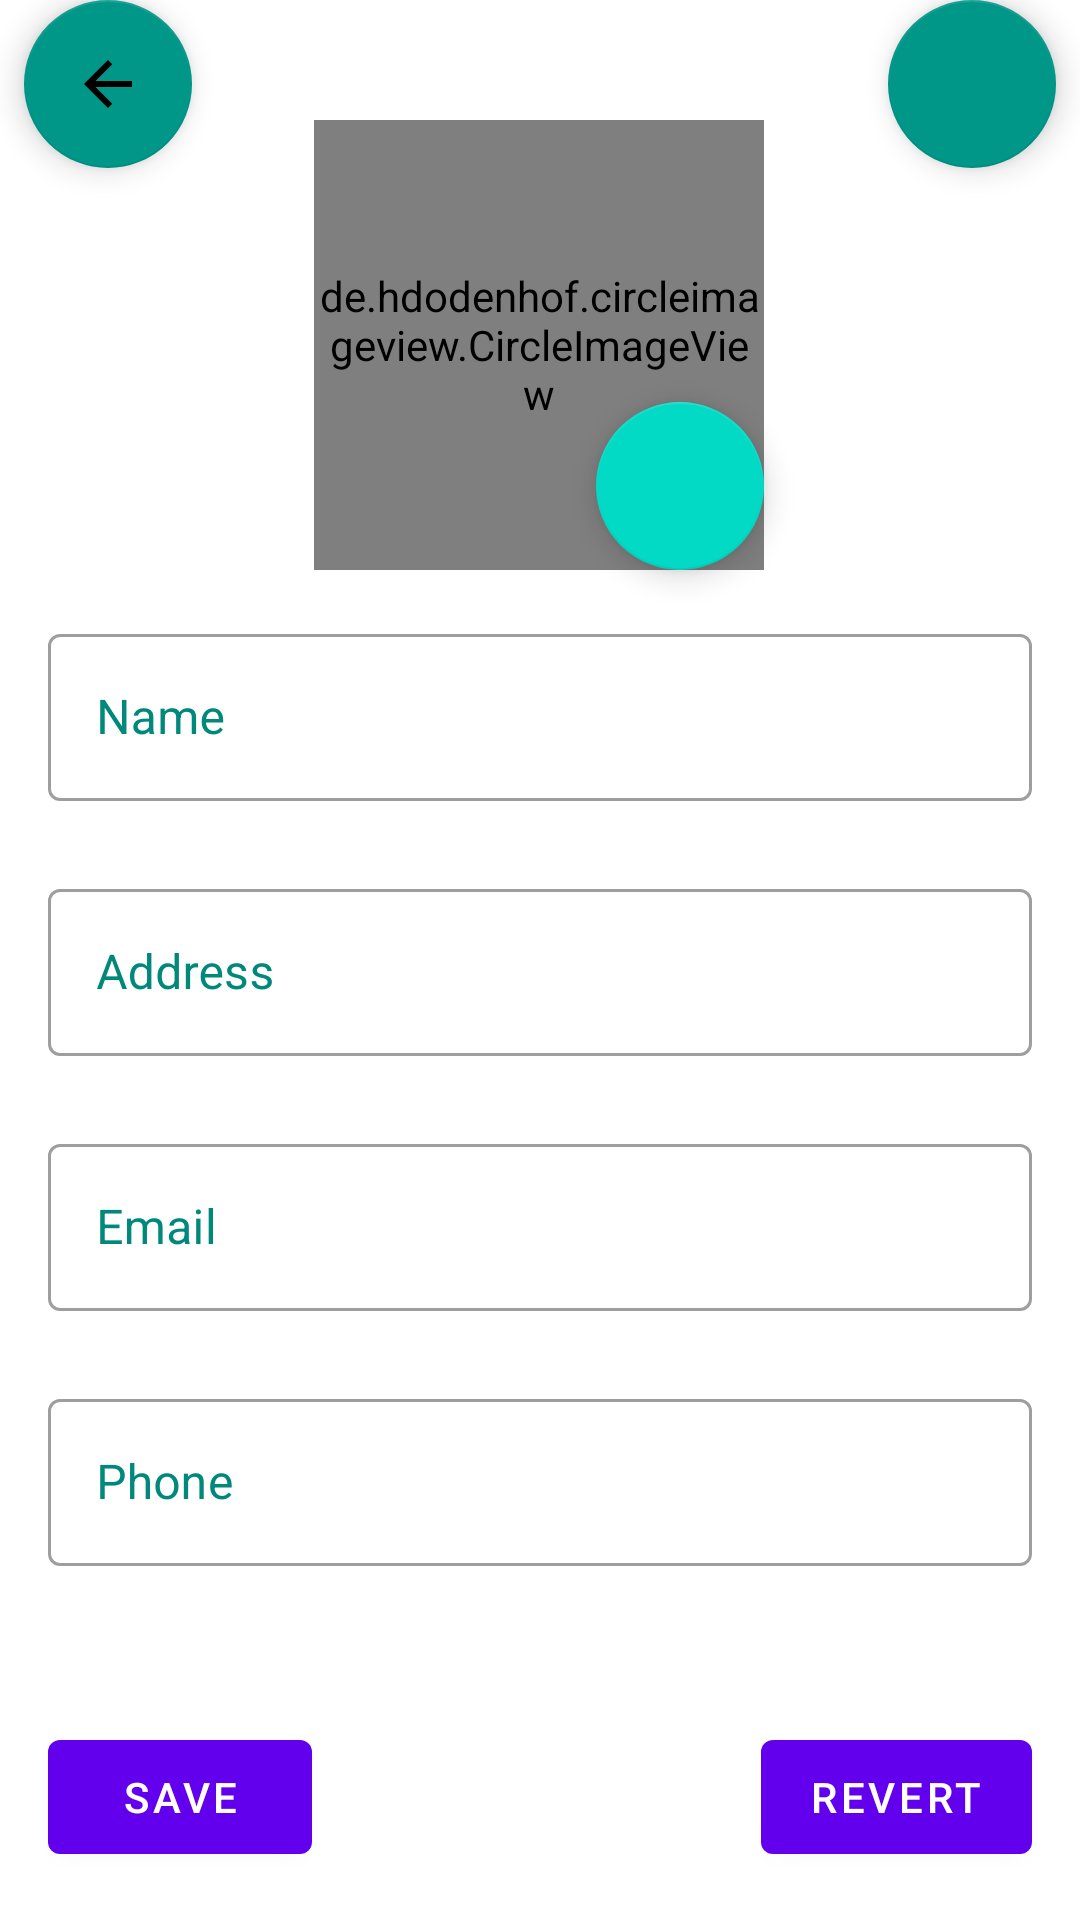

Point at icon controls on the screen. Image size 1080*1920, points as (x,y).
arrow back: (108,84)
